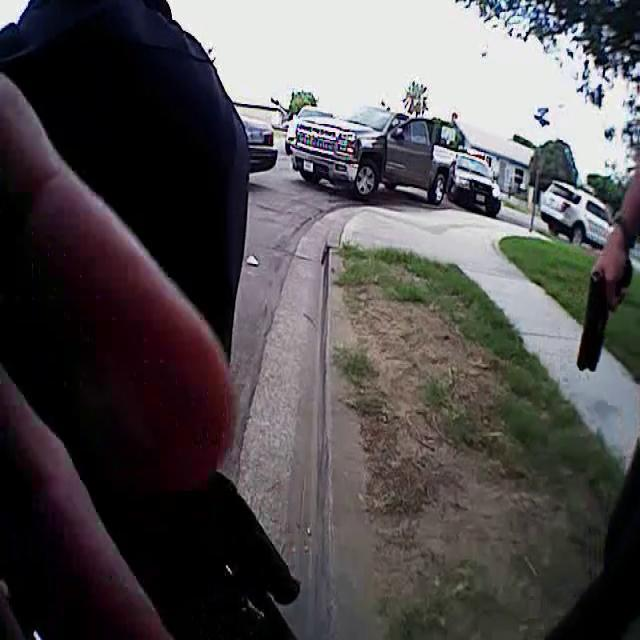gun: (569, 227, 638, 406)
